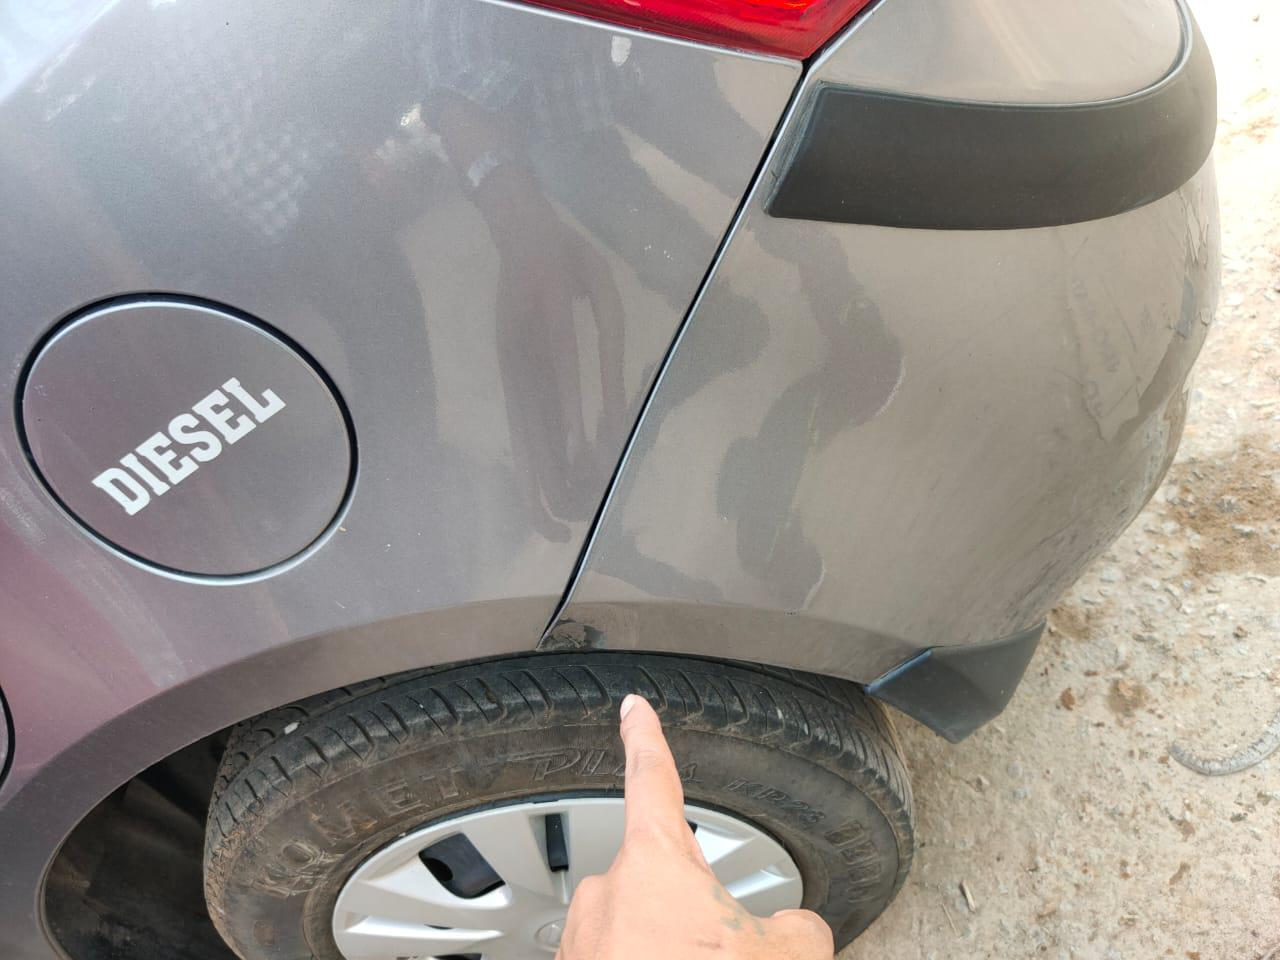rear-bumper-dent: (504, 301, 1208, 822)
